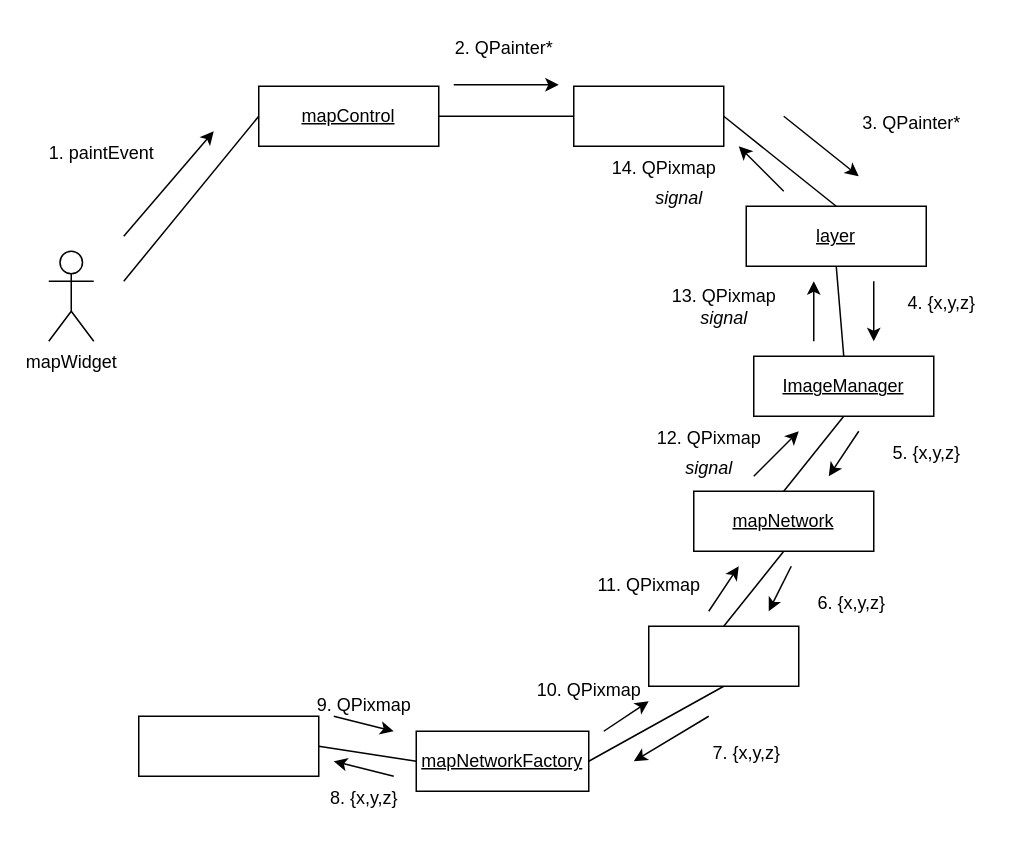
Image size: 1020x846. Some labels were removed from this diagram. The centre of each missing label's shape, as x and y in pixels:
"layerManager" goes at pixel 648 115.
"mapNetworkClient" goes at pixel 723 655.
"Server" goes at pixel 228 745.
